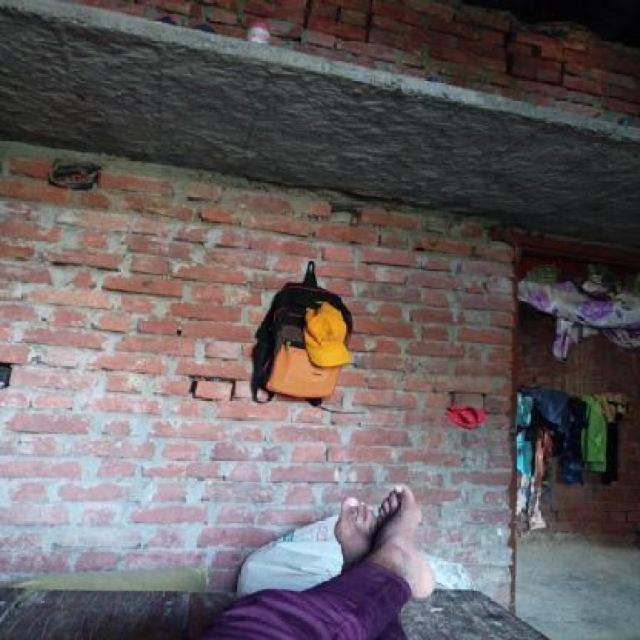backpack: (246, 255, 359, 412)
